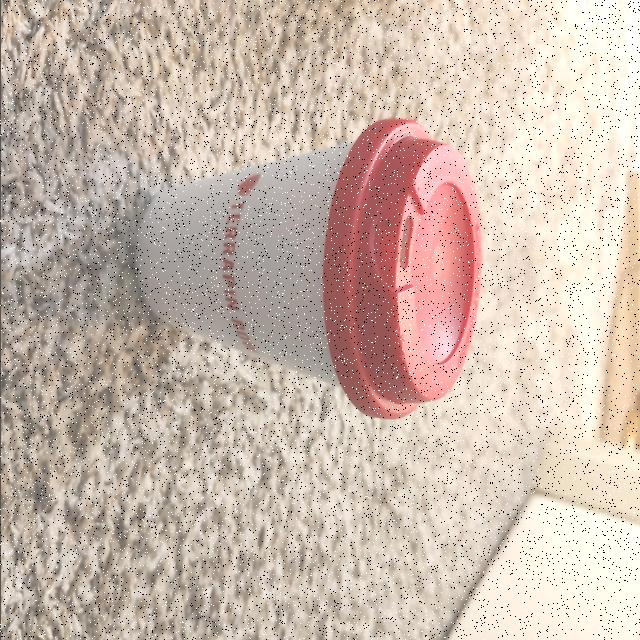mug: (130, 126, 473, 408)
